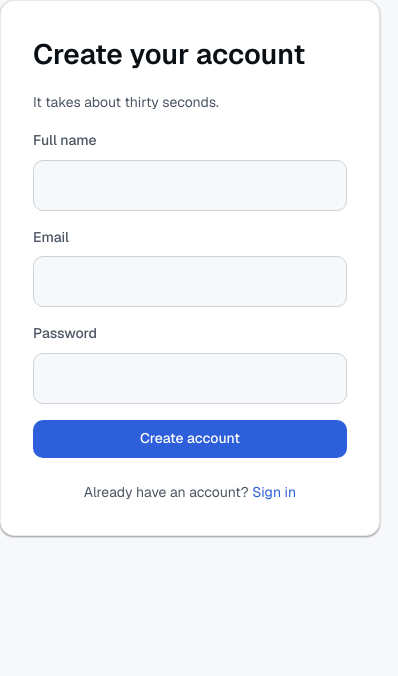
Scenario: RegisterForm › shows backend error on 400 (duplicate email) and does NOT redirect
Step 1. Type "Jane" into the field labelled "Full name" → (190, 185), box x1=33 y1=160 x2=347 y2=211
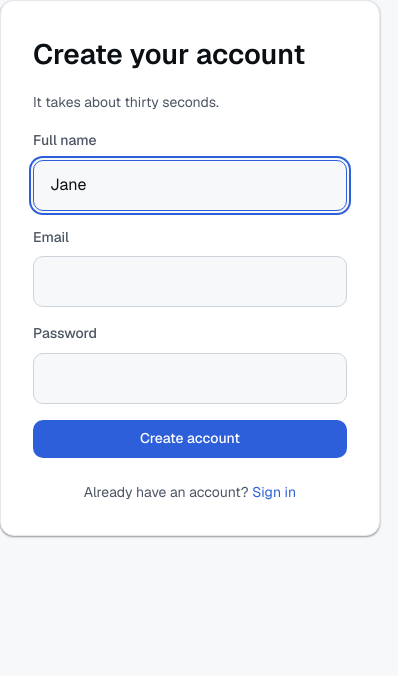
Step 2. Type "dup@example.com" into the field labelled "Email" → (190, 282), box x1=33 y1=256 x2=347 y2=307
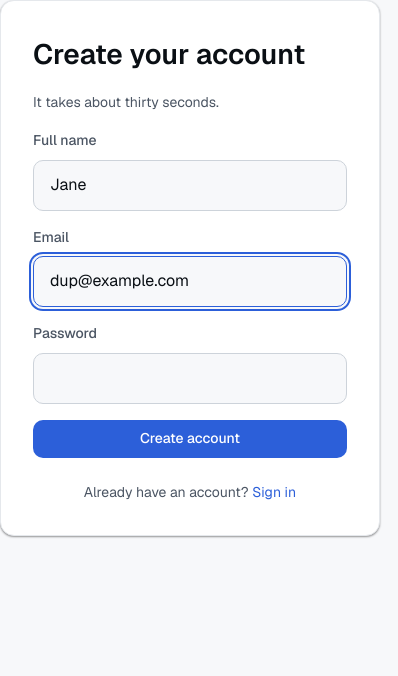
Step 3. Type "password123" into the password field labelled "Password" → (190, 378), box x1=33 y1=353 x2=347 y2=404
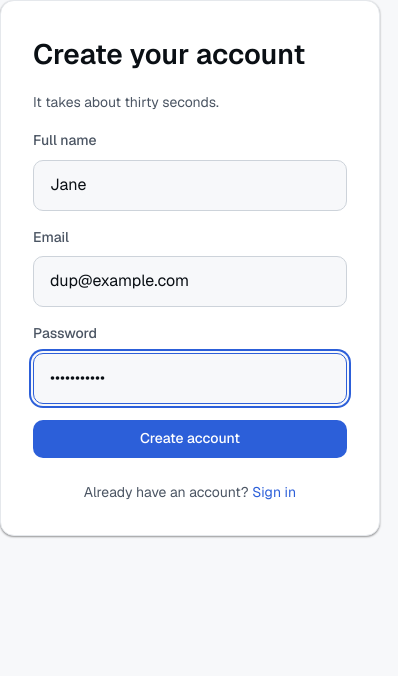
Step 4. Click the button "Create account" → (190, 438), box x1=33 y1=420 x2=347 y2=458
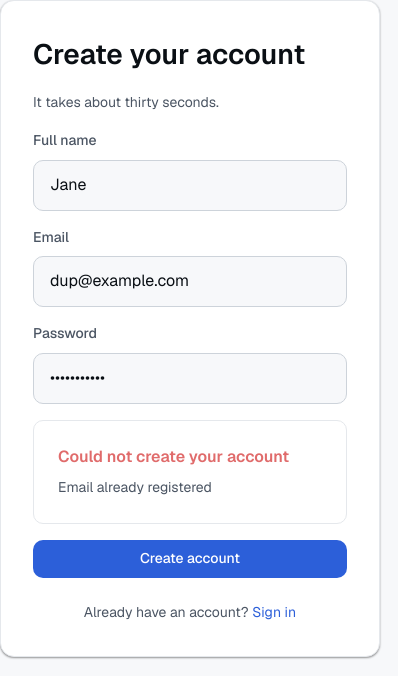
Expected: the text "Email already registered" is shown, x1=58 y1=478 x2=212 y2=496
